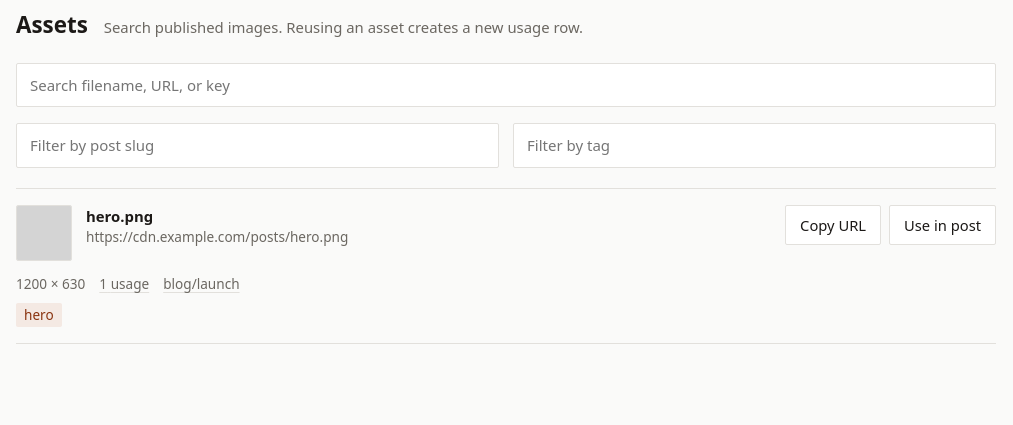
Test: AssetCatalog › loads usage history when the usage count is opened
Click the button "1 usage": (124, 285) [99,274,149,295]
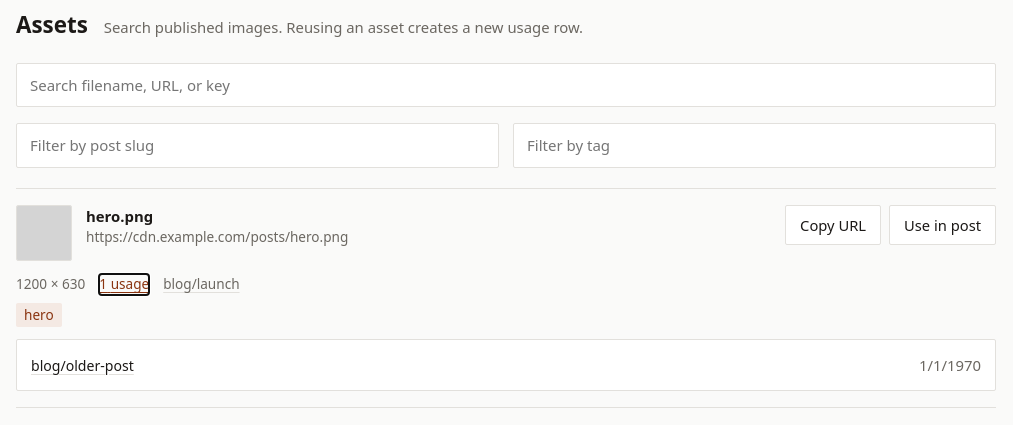
Expected: the button "blog/older-post" is shown, [31,354,134,376]
